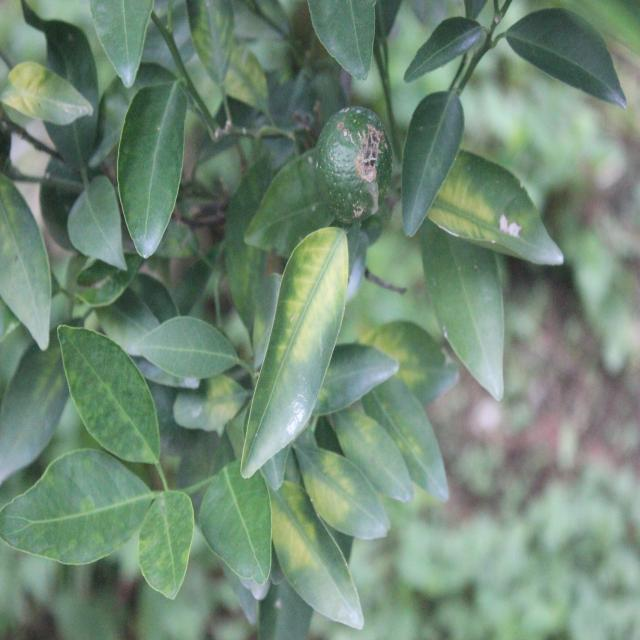greening: (245, 230, 352, 452), (60, 324, 166, 465), (0, 465, 145, 561), (273, 489, 353, 640), (432, 162, 542, 236), (143, 484, 196, 602)
